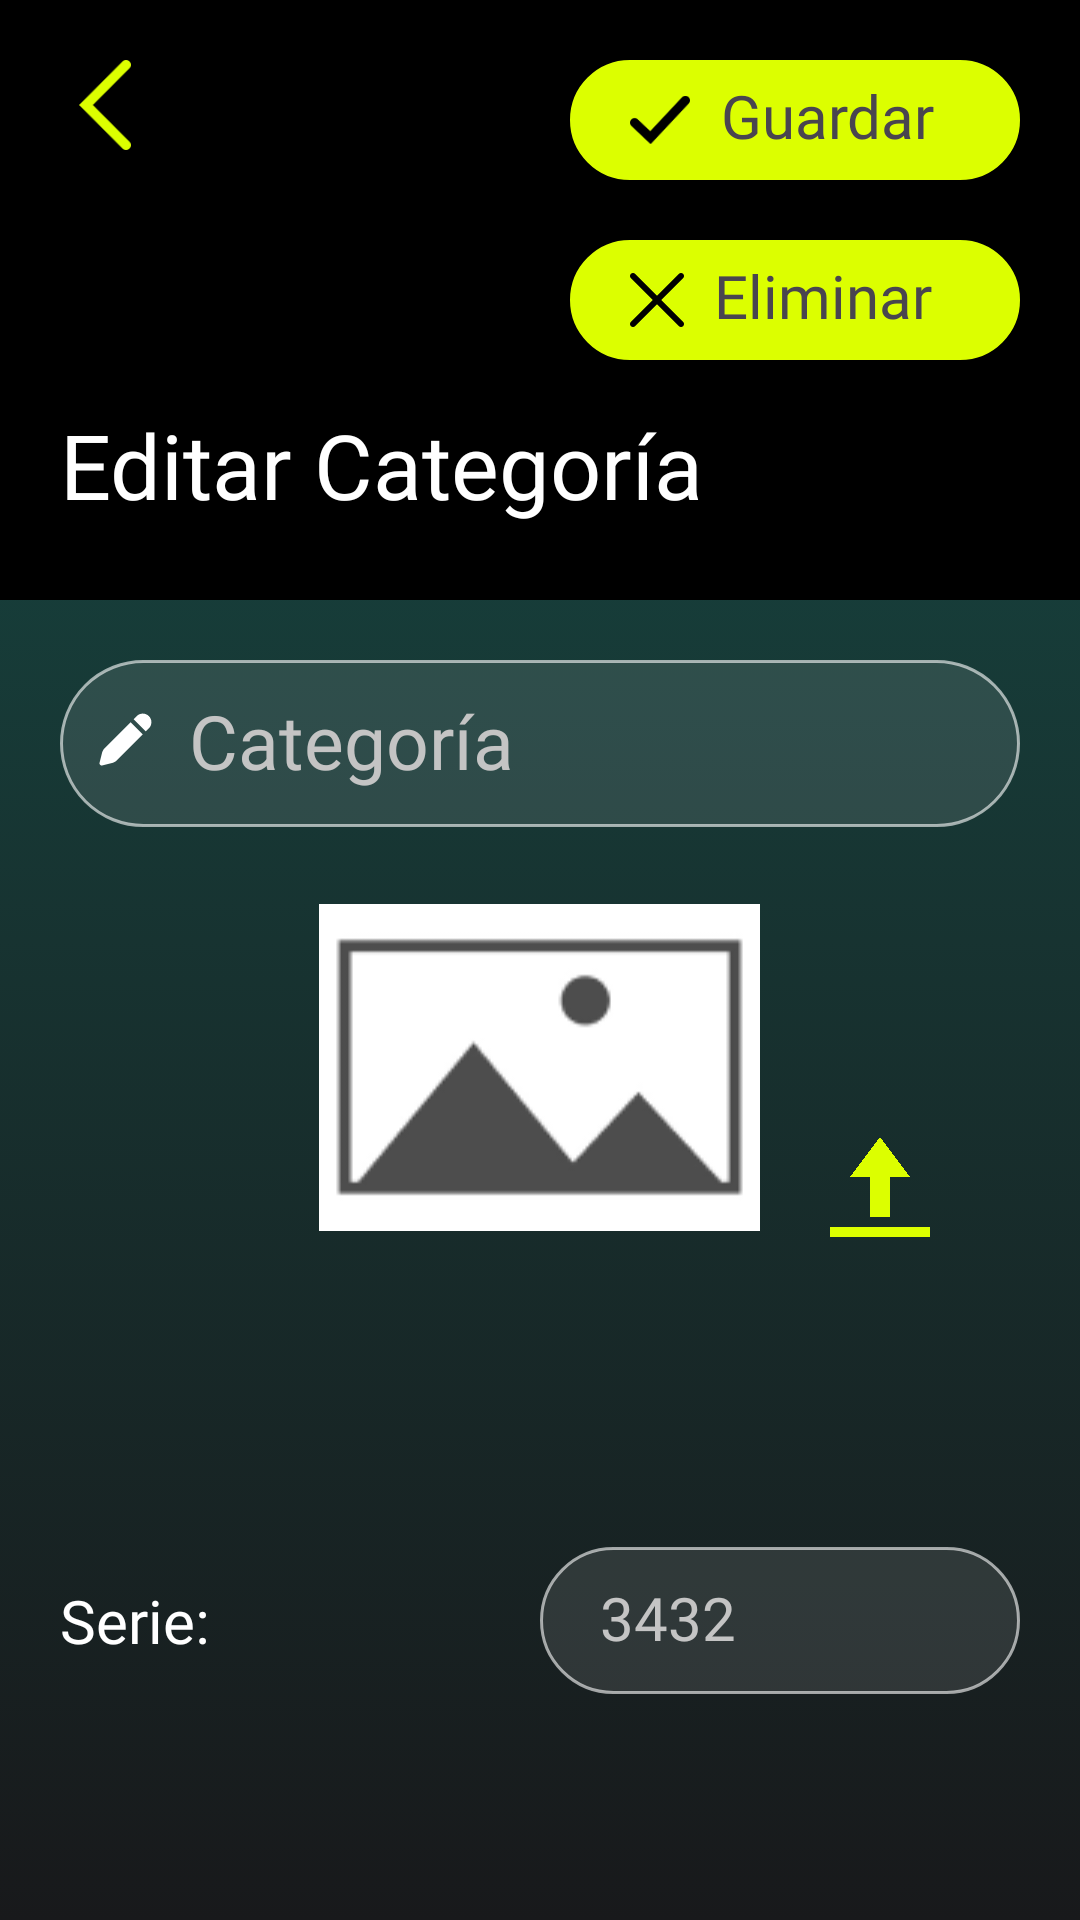

Locate icon controls on the screen. Image size 1080 × 1920, boxes as [x1, y1, x2, y2].
back: [79, 60, 131, 150]
check: [630, 96, 690, 144]
delete: [630, 273, 684, 327]
edit: [99, 713, 152, 766]
upload: [830, 1138, 930, 1237]
